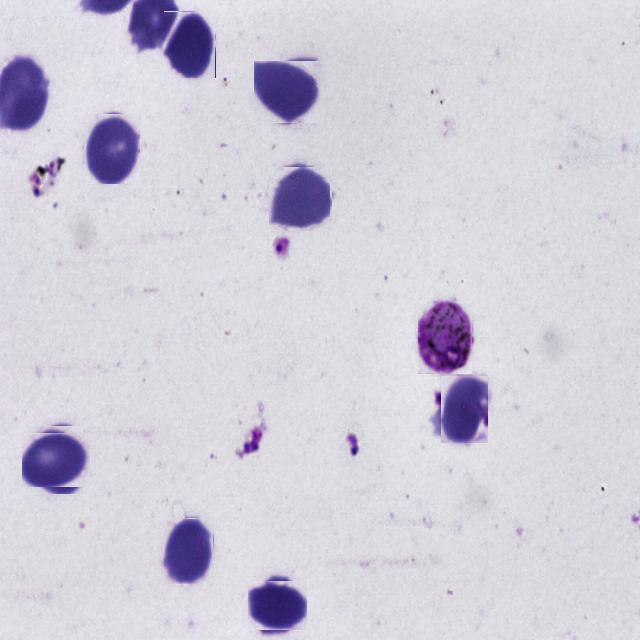gametocyte: (418, 301, 472, 374)
red blood cell: (255, 60, 319, 124), (268, 168, 332, 231), (84, 114, 140, 184), (24, 429, 86, 491), (163, 11, 216, 78), (164, 518, 214, 584), (441, 375, 489, 443), (250, 578, 304, 633)
